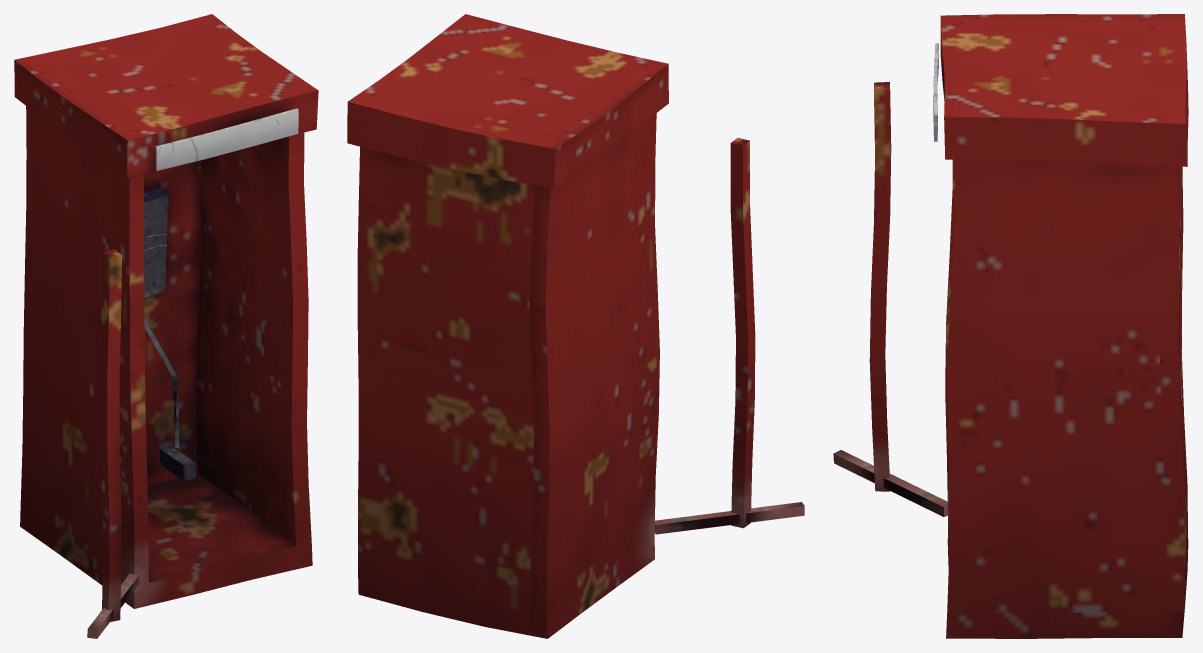
File: PhoneBooth.glb
3 renders of one model, left to right at view 1: azimuth 30°, elevation 25°; view 2: azimuth 150°, elevation 25°; view 3: azimuth 270°, elevation 25°, orthographic. The views are drawn at different scales.
Parts seen in each view (by area): view 1: Booth, Phone, Sign; view 2: Booth; view 3: Booth.
Boxes of the visible parts, <box> form: Booth: <box>14,14,318,638</box>; Phone: <box>144,188,195,480</box>; Sign: <box>155,108,298,170</box>; Booth: <box>347,14,804,638</box>; Booth: <box>833,14,1188,638</box>.
Size of the model in its own units: 1.87 by 3.02 by 1.85.
4 materials, 4 textured.
